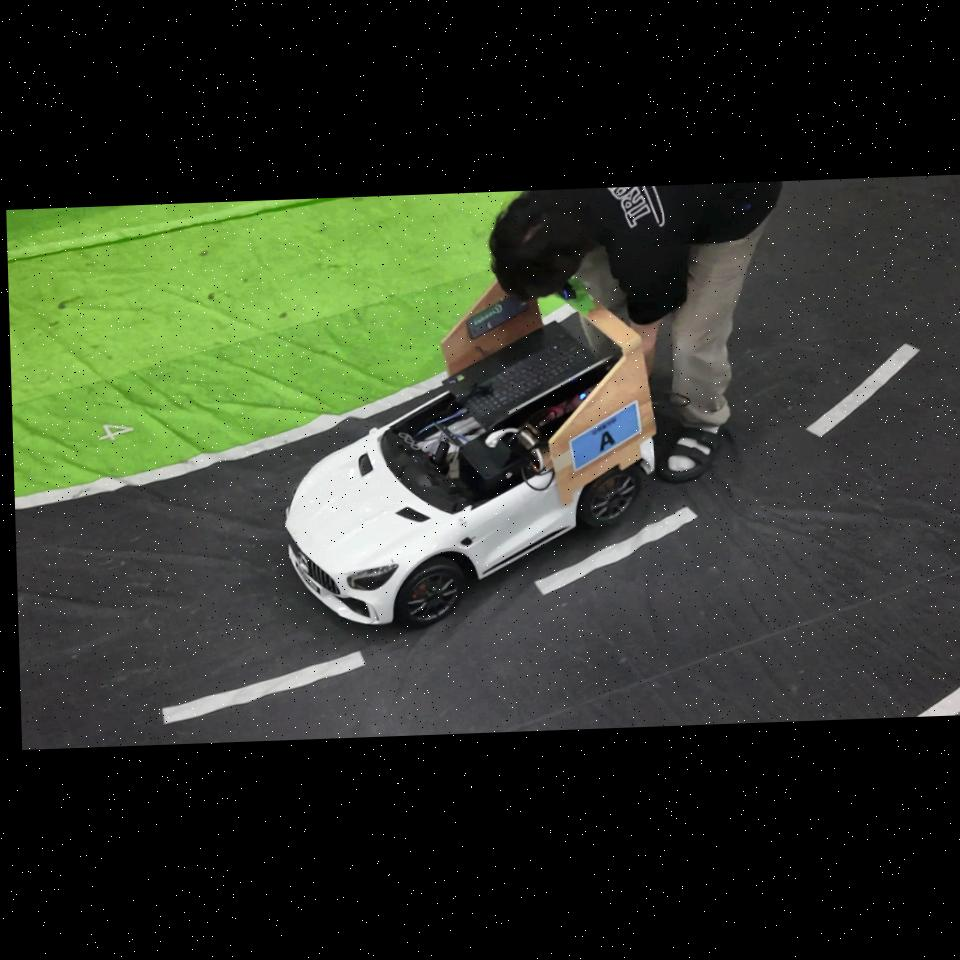broken_line: (163, 651, 367, 725), (534, 506, 698, 595), (806, 343, 920, 437)
